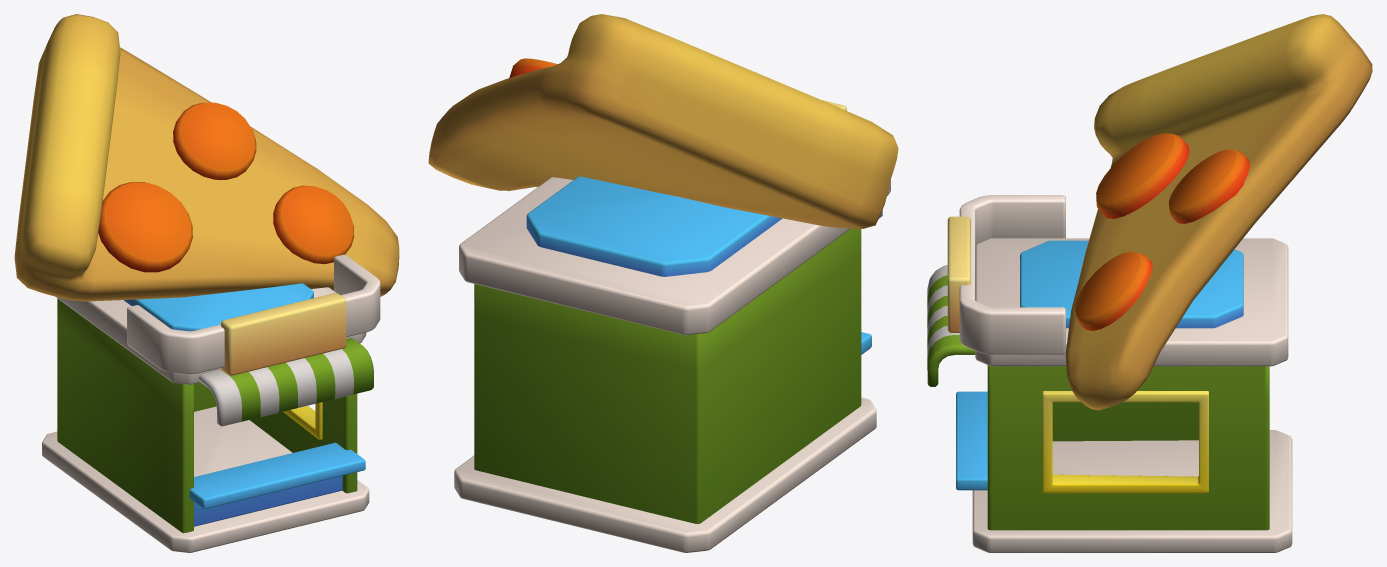
The model's file is lpb_store_piza.fbx.
The picture shows the model from 3 angles, left to right: view 1: azimuth 30°, elevation 25°; view 2: azimuth 150°, elevation 25°; view 3: azimuth 270°, elevation 25°; orthographic projection. The views are drawn at different scales.
Parts seen in each view (by area): view 1: Store.001; view 2: Store.001; view 3: Store.001.
Boxes of the visible parts, x1,y1,x2,y2 form: Store.001: [14, 14, 399, 552]; Store.001: [428, 14, 898, 552]; Store.001: [927, 14, 1372, 552].
Size of the model in its own units: 589 by 639 by 561.
